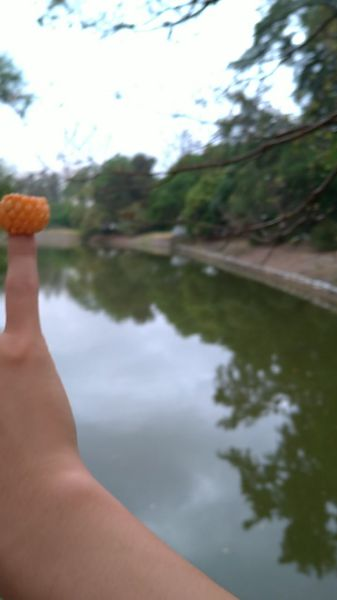eggs: (2, 191, 50, 236)
